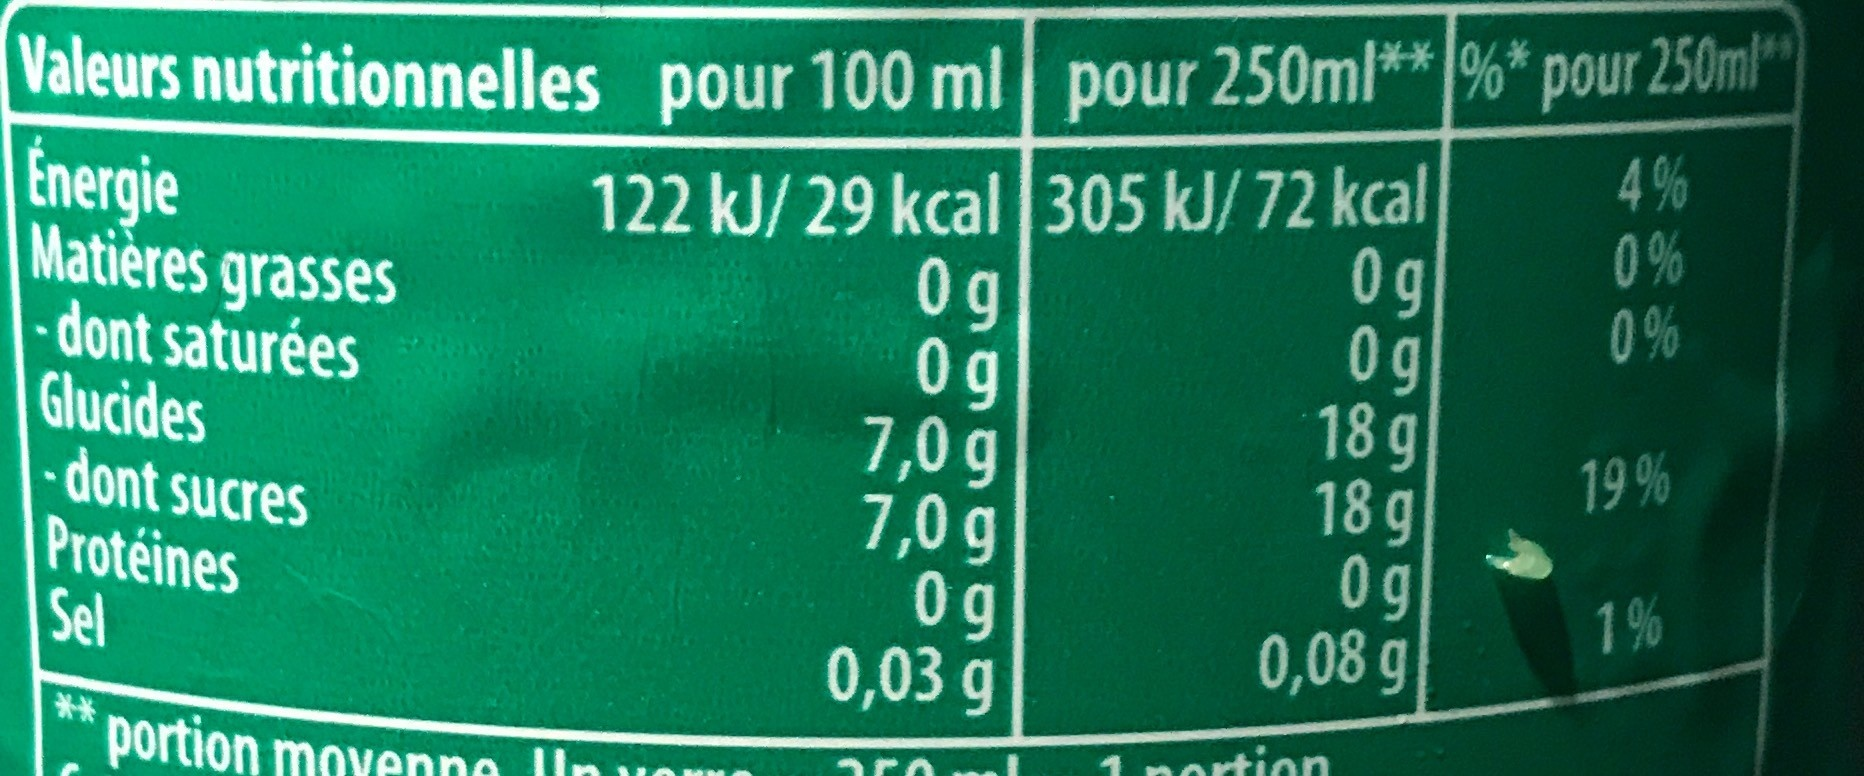column: (1046, 38, 1428, 698), (588, 168, 1001, 717), (1460, 36, 1786, 661), (15, 137, 402, 658)
table: (7, 4, 1802, 746)
